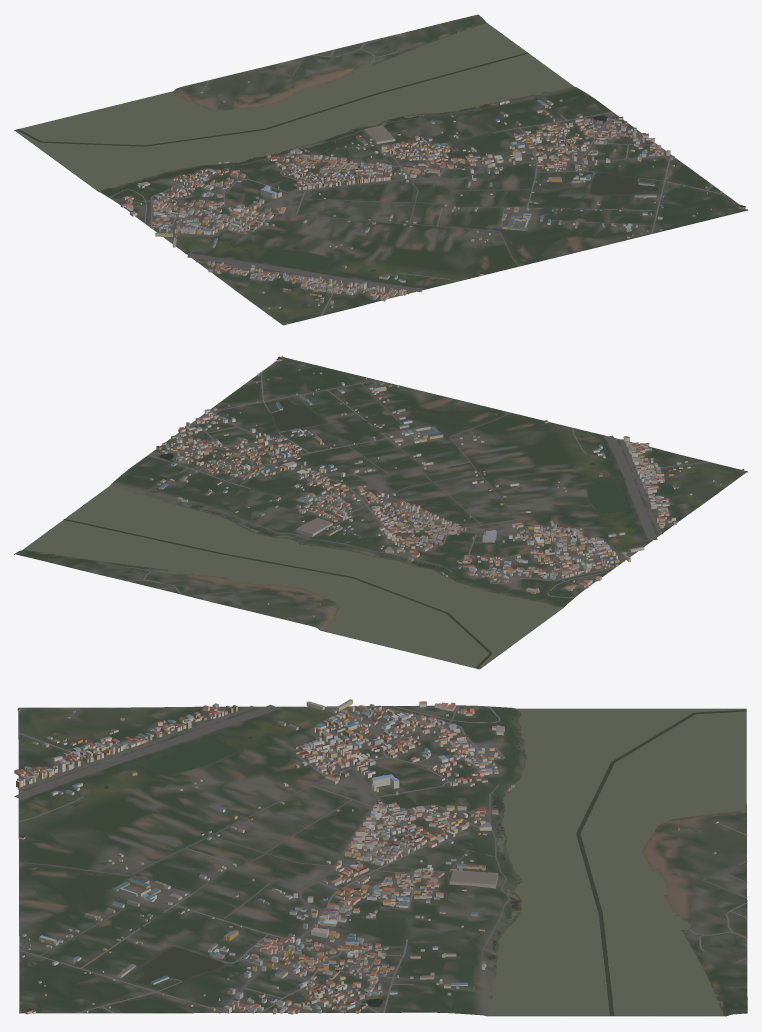
The picture shows the model from 3 angles, top to bottom: view 1: azimuth 30°, elevation 25°; view 2: azimuth 150°, elevation 25°; view 3: azimuth 270°, elevation 25°; orthographic projection. The views are drawn at different scales.
Visible parts, largest first — view 1: ground, water, buildings, roads; view 2: ground, water, buildings, roads; view 3: ground, water, buildings, roads.
Boxes of the visible parts, bbox=[...] form: ground: bbox=[14, 14, 747, 325]; water: bbox=[15, 23, 658, 276]; buildings: bbox=[120, 81, 747, 324]; roads: bbox=[109, 34, 726, 315]; ground: bbox=[14, 357, 747, 669]; water: bbox=[23, 400, 627, 668]; buildings: bbox=[149, 355, 744, 616]; roads: bbox=[95, 372, 709, 625]; ground: bbox=[18, 705, 747, 1016]; water: bbox=[66, 708, 746, 1016]; buildings: bbox=[14, 699, 718, 1014]; roads: bbox=[14, 704, 747, 1013].
Bounding box in the file's own units: 1424 × 29.23 × 1413.
